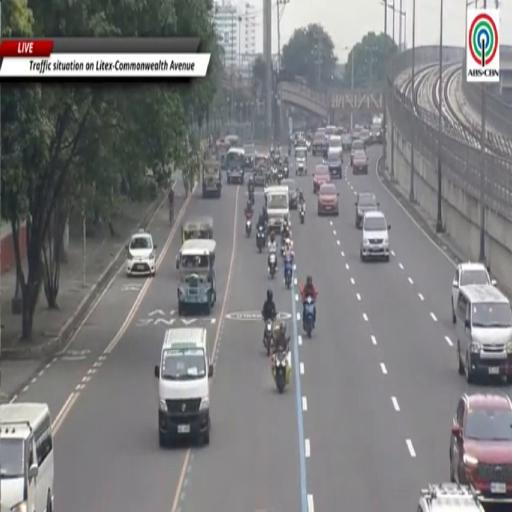car: (155, 328, 213, 446), (450, 394, 511, 506), (0, 403, 54, 511), (456, 285, 511, 385), (452, 262, 496, 324), (417, 483, 485, 511), (360, 212, 390, 262), (126, 229, 156, 277), (355, 192, 379, 228), (318, 184, 339, 215), (281, 179, 298, 210), (313, 165, 330, 194), (327, 149, 342, 179), (352, 150, 368, 174), (351, 137, 364, 165), (312, 133, 326, 155), (244, 143, 255, 170), (328, 136, 342, 153), (370, 124, 382, 143), (359, 128, 370, 146), (342, 134, 351, 151)
jeepney: (176, 239, 216, 315), (265, 186, 289, 233), (182, 216, 213, 242), (202, 160, 221, 198), (227, 148, 244, 184), (254, 154, 269, 186), (225, 135, 239, 149)
motorcycle: (273, 351, 290, 393), (303, 296, 314, 338), (264, 319, 273, 356), (256, 226, 266, 252), (285, 260, 293, 289), (268, 252, 276, 278), (245, 215, 252, 237), (299, 204, 305, 223), (271, 167, 277, 184), (277, 170, 283, 184), (249, 189, 254, 205), (283, 165, 288, 178), (281, 244, 285, 258)
